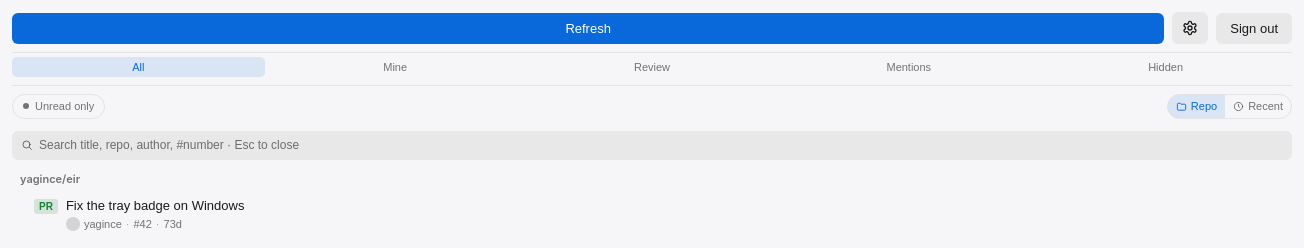
Test case: ItemList search › feeds what is typed back out through the bound query
The width and height of the screenshot is (1304, 248).
Type "tray" into the field labelled "Search" at (661, 145), box [39, 136, 1283, 155]
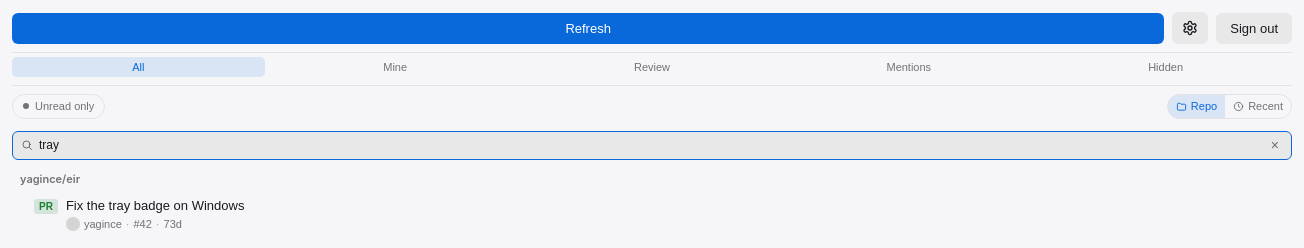
Check: the button named "Clear search" is shown, box [1267, 138, 1283, 152]
